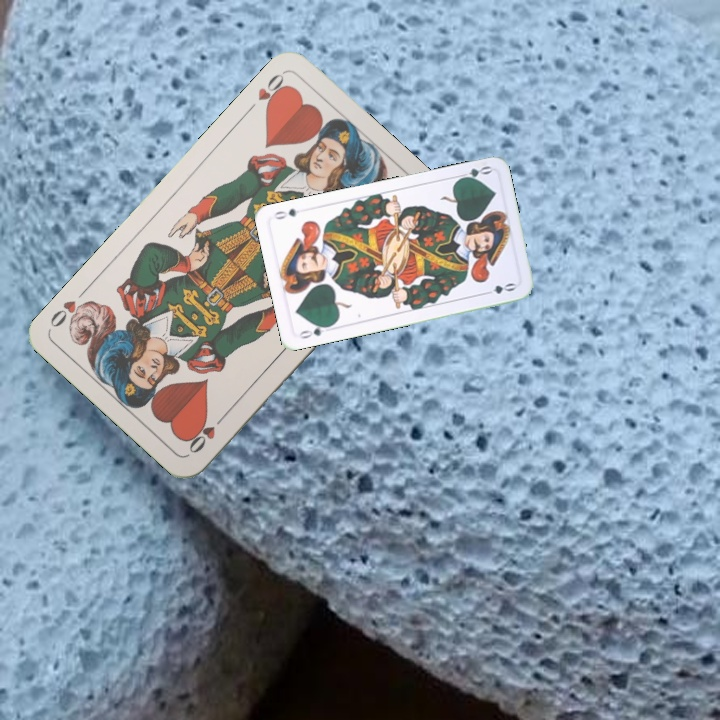GO: (453, 162, 494, 183), (294, 321, 334, 341)
HO: (242, 69, 292, 116), (184, 409, 229, 457)
